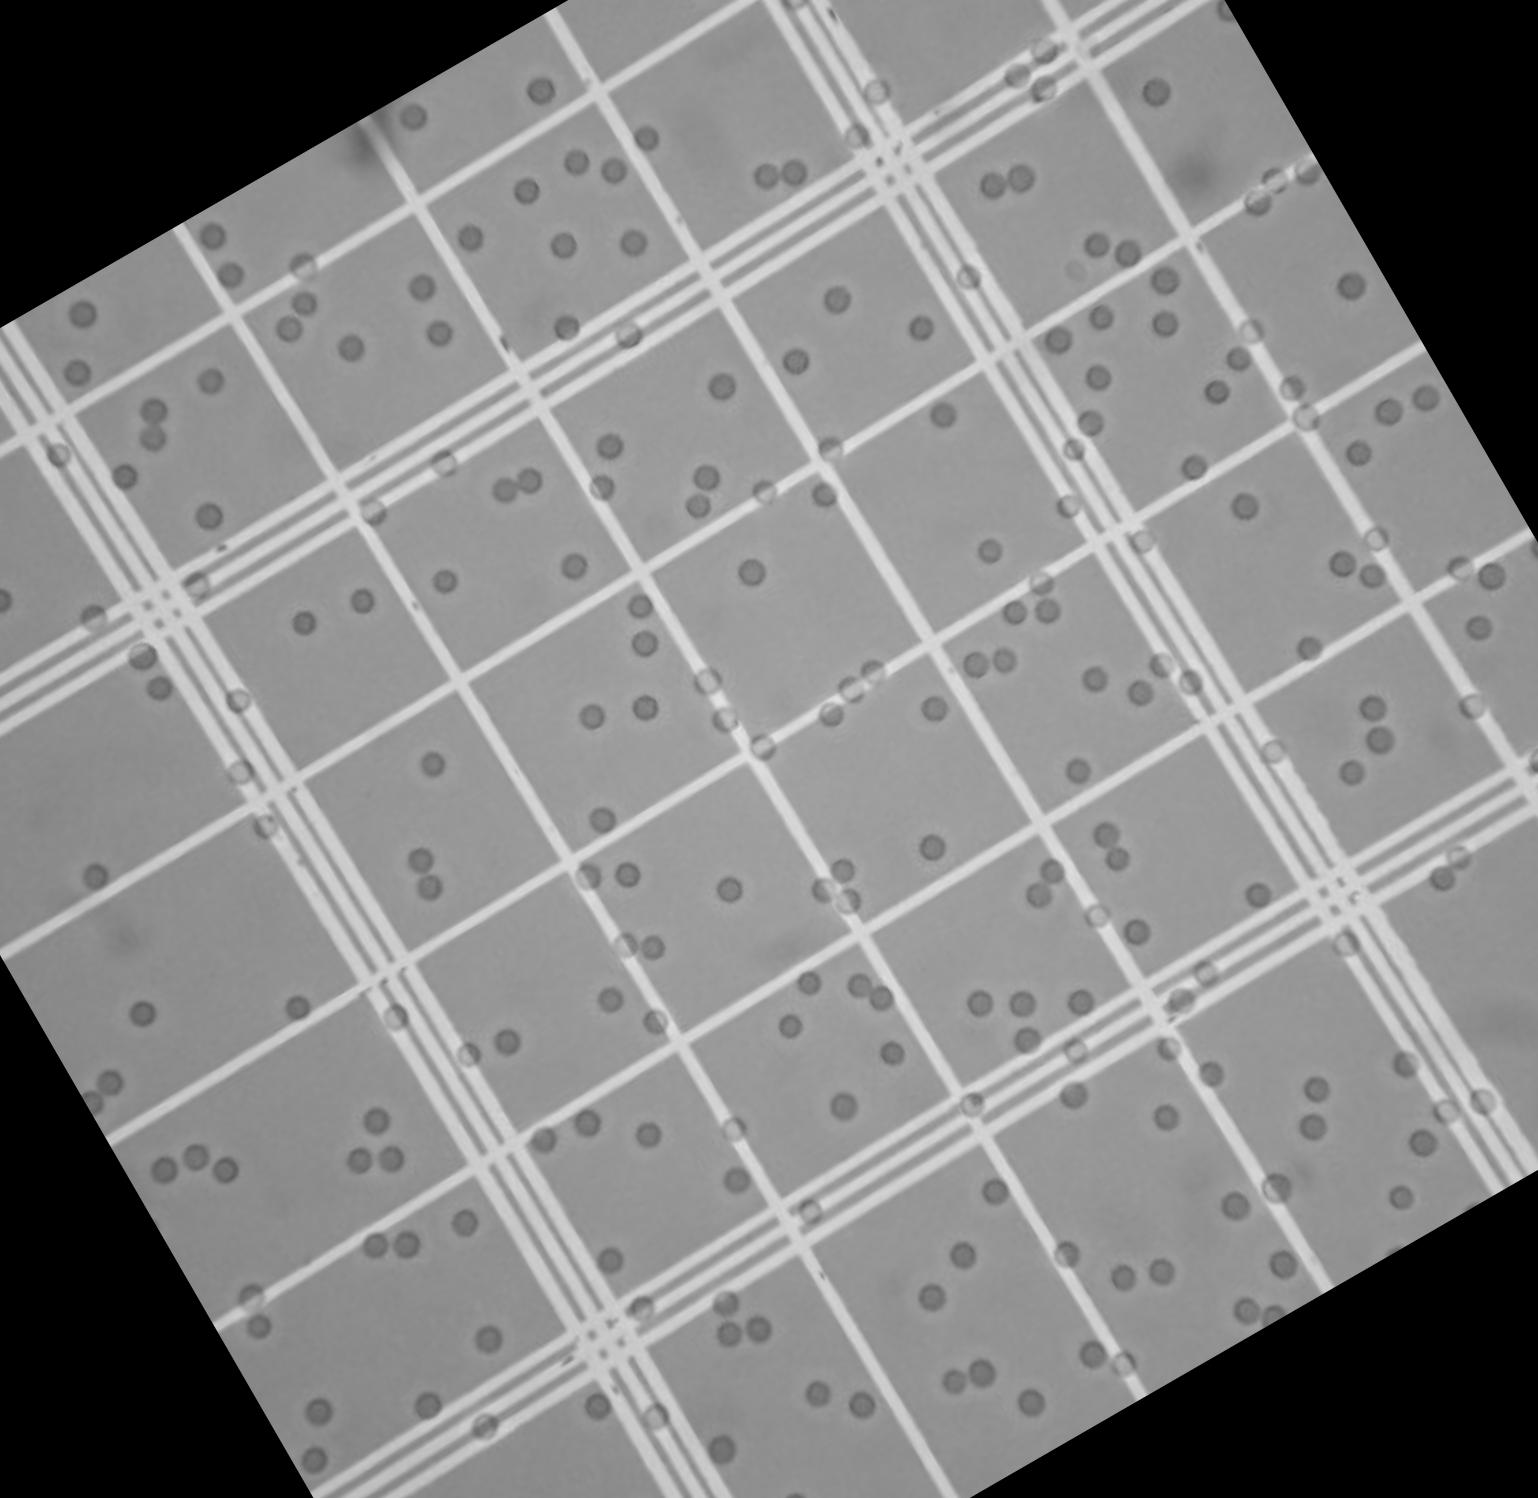cell: (1262, 1171, 1294, 1203), (1009, 165, 1042, 195), (67, 299, 99, 330), (450, 1206, 481, 1237), (827, 1092, 860, 1120), (1289, 404, 1322, 433), (1141, 76, 1171, 106), (1410, 380, 1441, 411), (1366, 725, 1397, 755), (361, 1107, 393, 1136), (474, 1325, 503, 1357), (1335, 270, 1366, 299), (1409, 1129, 1441, 1157), (126, 643, 159, 670), (80, 604, 108, 634), (336, 334, 365, 364), (527, 77, 558, 106), (619, 227, 648, 257), (299, 1446, 330, 1475), (1031, 76, 1061, 104), (693, 665, 722, 695), (711, 704, 740, 735), (709, 1433, 737, 1464), (1052, 1238, 1082, 1267), (1110, 1262, 1138, 1292), (1008, 989, 1038, 1017), (1460, 689, 1489, 719), (1469, 1086, 1498, 1116), (969, 1359, 997, 1391), (630, 627, 659, 656), (378, 1144, 406, 1173), (238, 1284, 266, 1313), (1002, 62, 1031, 91), (864, 76, 893, 104), (920, 693, 949, 722), (948, 1241, 976, 1270), (1232, 1298, 1261, 1326), (1221, 1192, 1250, 1221), (1059, 1079, 1088, 1108), (1197, 1060, 1226, 1089), (1478, 562, 1506, 590), (1269, 1249, 1298, 1278), (63, 358, 91, 389), (181, 573, 211, 600), (345, 1145, 372, 1175), (306, 1398, 334, 1428), (413, 1392, 444, 1420), (980, 1179, 1011, 1207), (1244, 188, 1272, 218), (1370, 398, 1401, 426), (1093, 820, 1125, 846), (196, 368, 225, 395), (139, 426, 168, 453), (196, 503, 224, 531), (551, 232, 579, 260), (588, 472, 615, 501), (643, 1401, 670, 1429), (573, 1109, 601, 1137), (823, 284, 851, 312), (737, 557, 766, 585), (838, 676, 866, 703), (919, 833, 948, 861), (1018, 1390, 1045, 1418), (1147, 1256, 1174, 1285), (968, 989, 996, 1017), (990, 645, 1018, 674), (963, 651, 990, 680), (1230, 492, 1259, 519), (1045, 325, 1072, 354), (1277, 372, 1305, 401), (1344, 438, 1372, 467), (1329, 549, 1358, 577), (1359, 563, 1388, 590), (1465, 612, 1493, 641), (1332, 931, 1359, 960), (1434, 1097, 1462, 1125), (1303, 1074, 1331, 1103), (1300, 1111, 1328, 1140), (358, 498, 389, 525), (183, 1142, 209, 1173), (211, 1157, 242, 1184), (747, 735, 777, 761), (1013, 1027, 1044, 1053), (1362, 525, 1392, 551), (1445, 844, 1475, 871), (431, 450, 459, 478), (563, 148, 590, 176), (227, 757, 254, 784), (151, 1156, 179, 1184), (530, 1126, 558, 1153), (930, 401, 957, 428), (861, 658, 888, 685), (805, 1380, 832, 1407), (917, 1284, 945, 1311), (1082, 663, 1110, 691), (1339, 758, 1366, 785), (111, 463, 137, 492), (200, 222, 227, 251), (408, 275, 437, 301), (512, 178, 541, 205), (614, 321, 643, 347), (406, 849, 435, 875), (128, 1002, 157, 1028), (472, 1411, 498, 1440), (589, 807, 618, 833), (978, 172, 1007, 198), (880, 1039, 906, 1068), (720, 1115, 746, 1144), (1152, 1105, 1181, 1131), (1083, 901, 1112, 927), (1359, 693, 1386, 722), (1392, 1048, 1419, 1076), (140, 400, 168, 426), (277, 314, 303, 342), (633, 124, 661, 150), (601, 158, 628, 185), (516, 467, 542, 494), (579, 703, 606, 730), (82, 862, 110, 888), (393, 1232, 419, 1259), (585, 1392, 611, 1420), (597, 987, 623, 1015), (574, 864, 601, 890), (1031, 37, 1057, 65), (781, 158, 807, 185), (956, 262, 983, 288), (783, 346, 809, 373), (709, 372, 735, 400), (717, 876, 743, 903), (835, 888, 862, 914), (1079, 1340, 1105, 1368), (1068, 989, 1094, 1016), (1024, 881, 1051, 909), (1246, 880, 1272, 908), (1193, 958, 1219, 986), (1149, 649, 1175, 677), (1151, 266, 1178, 292), (1446, 556, 1473, 582), (383, 1002, 408, 1031), (224, 687, 250, 713), (459, 225, 485, 251), (553, 314, 579, 341), (494, 1028, 520, 1055), (455, 1041, 481, 1067), (247, 1315, 273, 1341), (634, 1120, 661, 1146), (612, 932, 639, 958), (818, 700, 845, 726), (829, 857, 856, 883), (711, 1289, 737, 1315), (1112, 1351, 1138, 1377), (1063, 1039, 1089, 1065), (1041, 855, 1067, 881), (1083, 231, 1110, 257), (1296, 634, 1322, 660), (1261, 168, 1287, 194), (47, 441, 71, 468), (146, 676, 173, 700), (427, 323, 455, 347), (96, 1070, 124, 1094), (843, 121, 868, 148), (754, 162, 779, 189), (682, 494, 710, 519), (871, 984, 895, 1012), (724, 1167, 751, 1192), (850, 1391, 875, 1418), (943, 1368, 968, 1395), (1125, 917, 1149, 945), (1066, 755, 1090, 783), (1127, 680, 1155, 704), (1178, 670, 1203, 698), (1086, 365, 1114, 390), (1151, 312, 1178, 336), (433, 568, 459, 593), (597, 434, 623, 459), (563, 553, 588, 579), (633, 695, 658, 721), (420, 752, 446, 777), (417, 875, 444, 899), (253, 813, 277, 839), (286, 995, 310, 1022), (597, 1248, 622, 1274), (641, 1009, 667, 1034), (643, 934, 667, 960), (617, 862, 641, 888), (909, 314, 934, 341), (693, 465, 720, 490), (818, 437, 845, 461), (813, 481, 838, 507), (779, 1013, 803, 1039), (798, 1199, 824, 1223), (1079, 411, 1104, 437), (1116, 240, 1141, 266), (1431, 865, 1456, 891), (1391, 1184, 1416, 1210), (350, 588, 374, 615), (217, 264, 244, 287), (401, 104, 426, 129), (753, 479, 777, 504), (846, 973, 871, 998), (715, 1321, 740, 1346), (1158, 1037, 1182, 1061), (1206, 379, 1230, 404), (1239, 319, 1263, 343), (292, 610, 316, 636), (292, 291, 319, 314), (493, 476, 516, 503), (796, 969, 823, 993), (747, 1315, 770, 1341), (960, 1094, 986, 1118), (1034, 597, 1060, 621), (1182, 453, 1208, 476), (1294, 162, 1320, 185), (1104, 849, 1132, 871), (365, 1234, 389, 1259), (632, 1296, 655, 1321), (1170, 986, 1193, 1011), (1002, 600, 1027, 623), (1057, 493, 1081, 518), (1132, 529, 1156, 552), (1063, 437, 1086, 461), (628, 595, 654, 617), (812, 876, 832, 903), (1262, 739, 1285, 762), (1030, 571, 1053, 595), (1226, 346, 1250, 369), (980, 540, 1004, 562), (1090, 306, 1114, 328)
